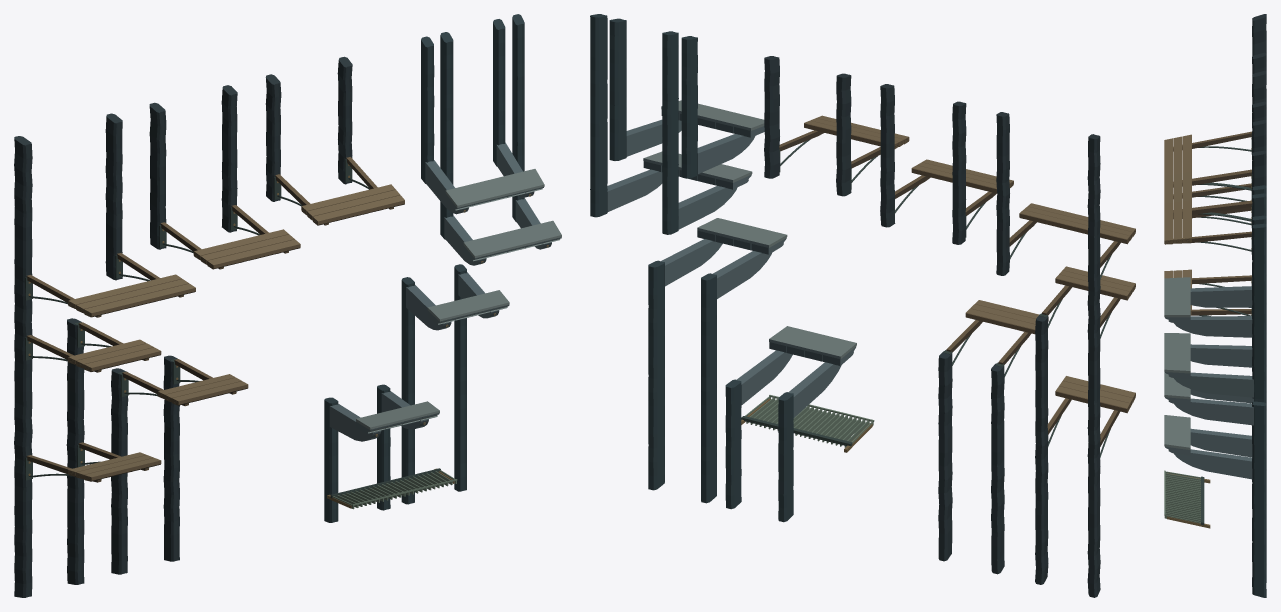
The model's file is vault-supports.glb.
The picture shows the model from 3 angles, left to right: view 1: azimuth 30°, elevation 25°; view 2: azimuth 150°, elevation 25°; view 3: azimuth 270°, elevation 25°; orthographic projection. The views are drawn at different scales.
Parts seen in each view (by area): view 1: vault-supports; view 2: vault-supports; view 3: vault-supports.
Boxes of the visible parts, x1,y1,x2,y2 form: vault-supports: (14,14,561,597); vault-supports: (590,14,1135,597); vault-supports: (1164,14,1266,597).
Size of the model in its own units: 29.1 by 25.16 by 5.9.
